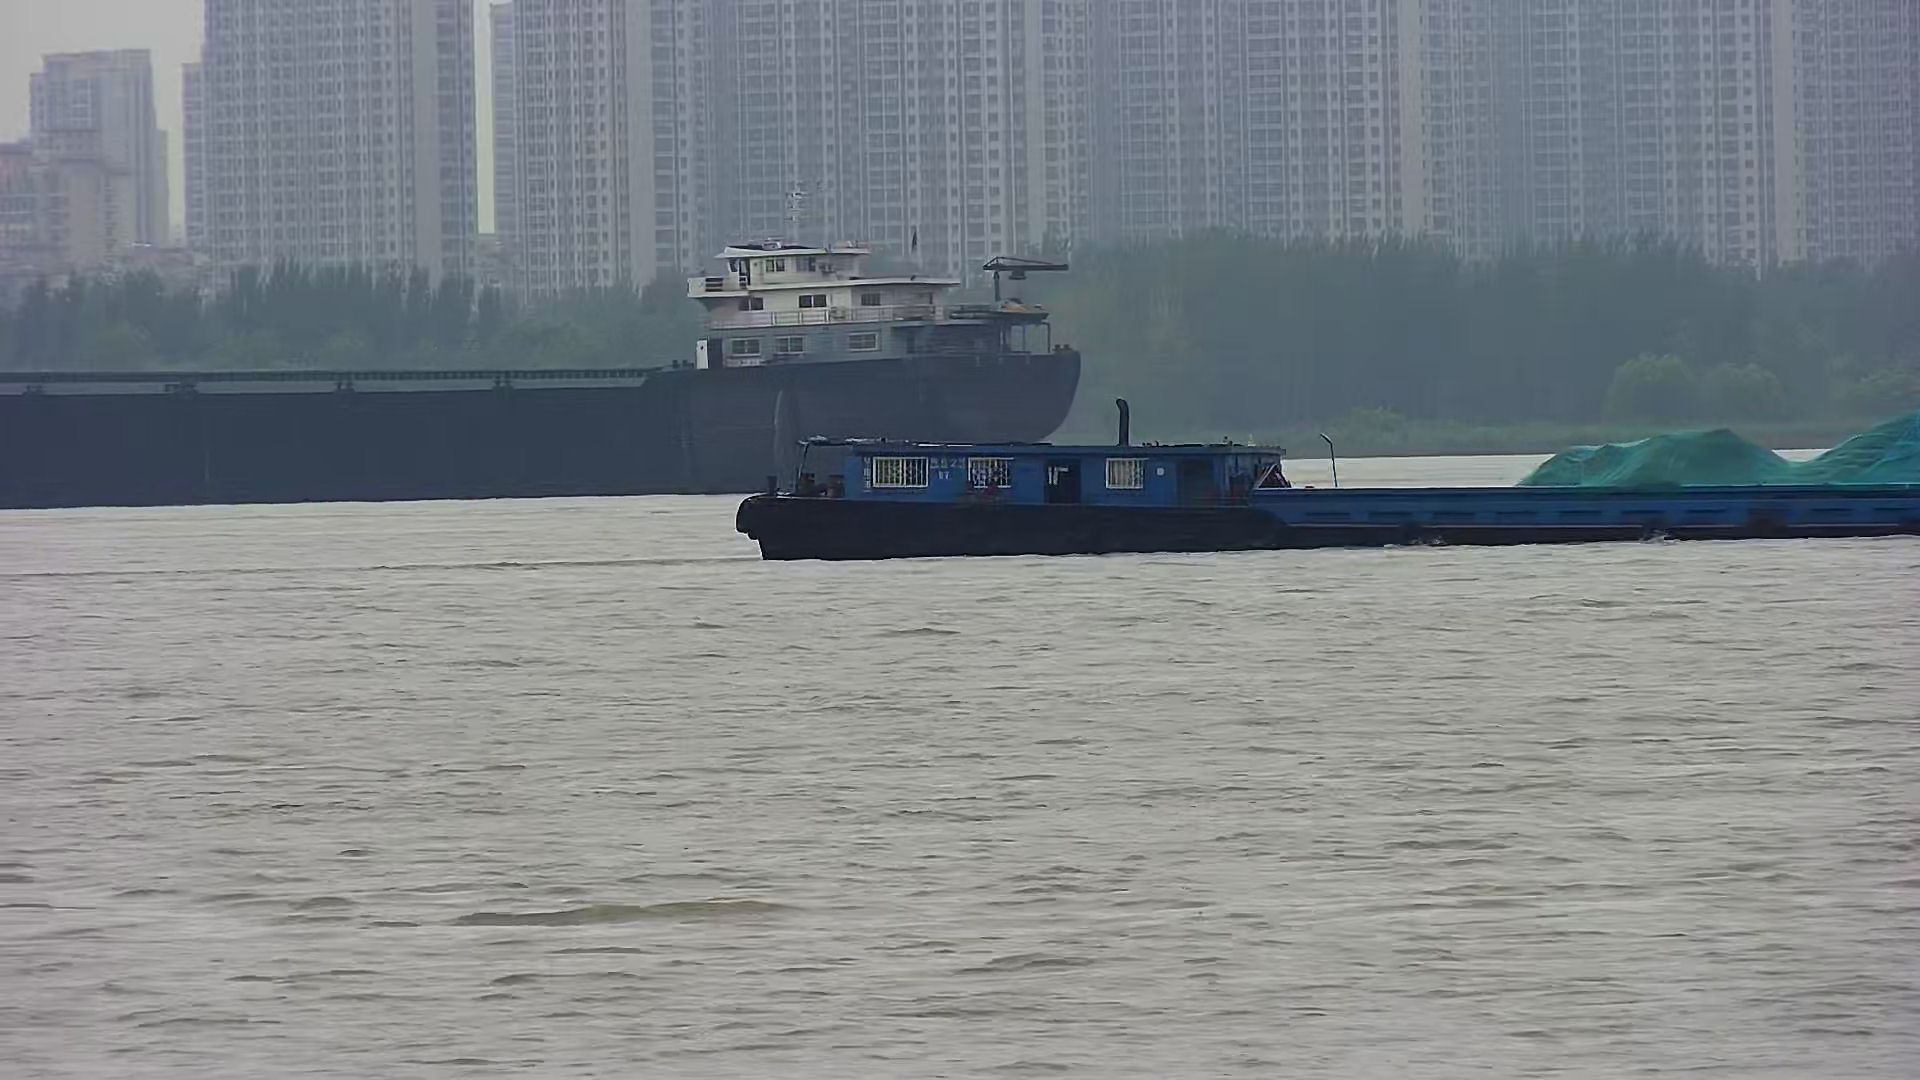ship: (1, 227, 1085, 506), (749, 402, 1919, 560)
